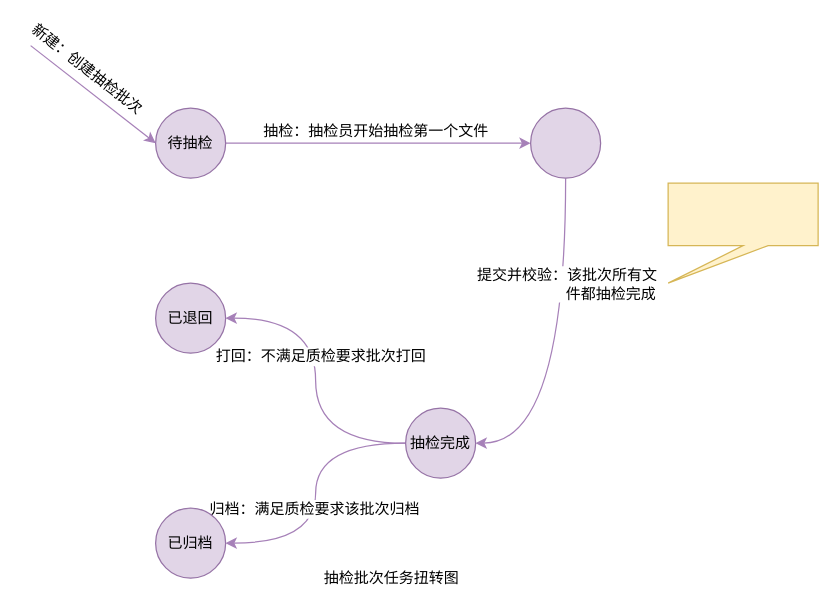
Image size: 840x613. Some labels were removed from this diagram. The shapes that lost their labels are listed below. From the top down, each one's box as (x1, y1, x2, y2) in pixels, then its label:
(529, 107, 601, 178): 抽检中
(667, 182, 818, 283): 说明：相当于该批次下的抽检任务均已提交
